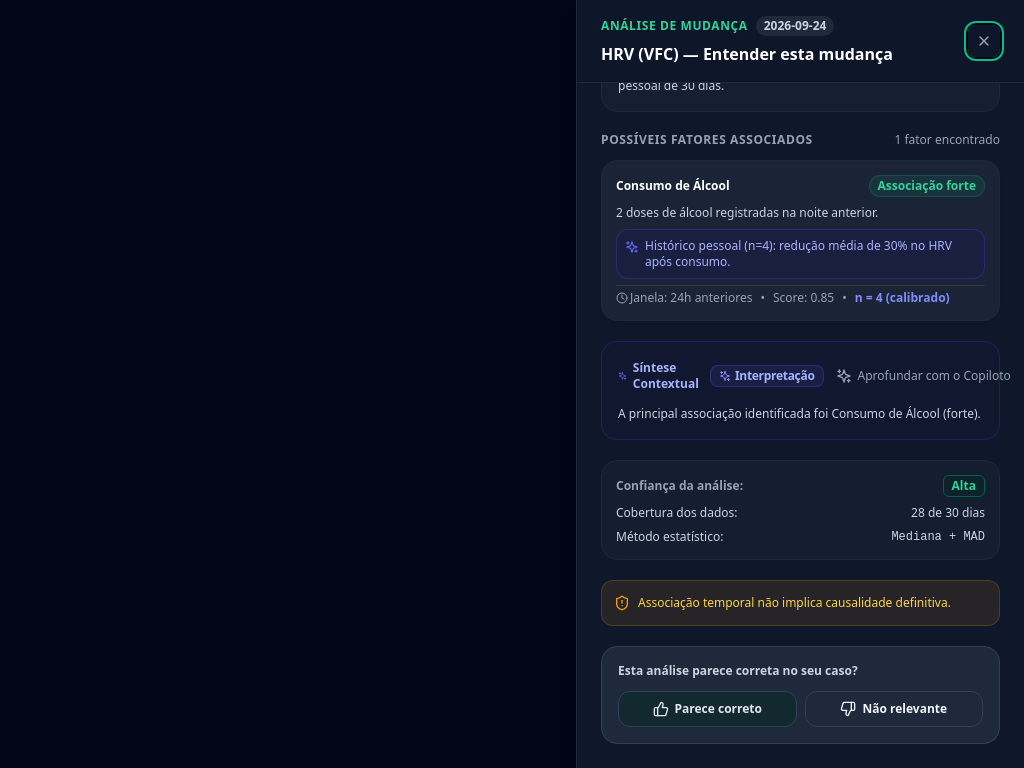
Test case: InsightDrawer › submits feedback when user clicks Parece correto button
(page scrolled)
Expected: the text "Parece correto" is shown, [674, 700, 762, 716]
Step 1. Click the button "Parece correto" → (707, 708), box [618, 690, 796, 726]
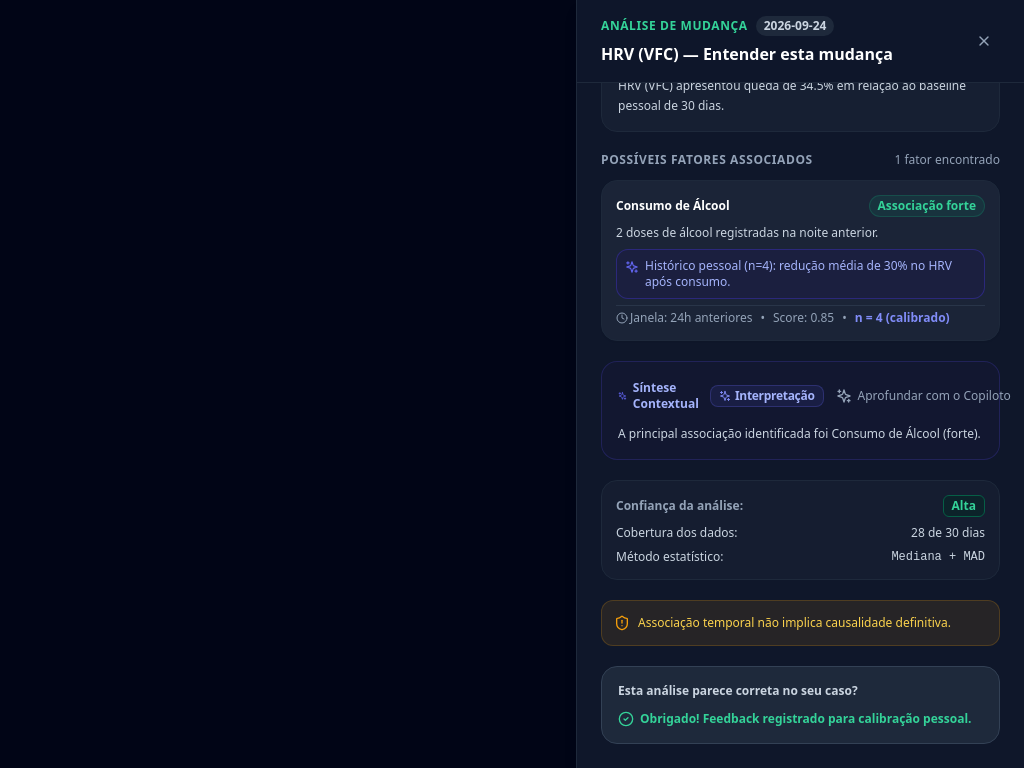
Now the text "Obrigado! Feedback registrado para calibração pessoal." is shown, box [618, 710, 983, 726]
